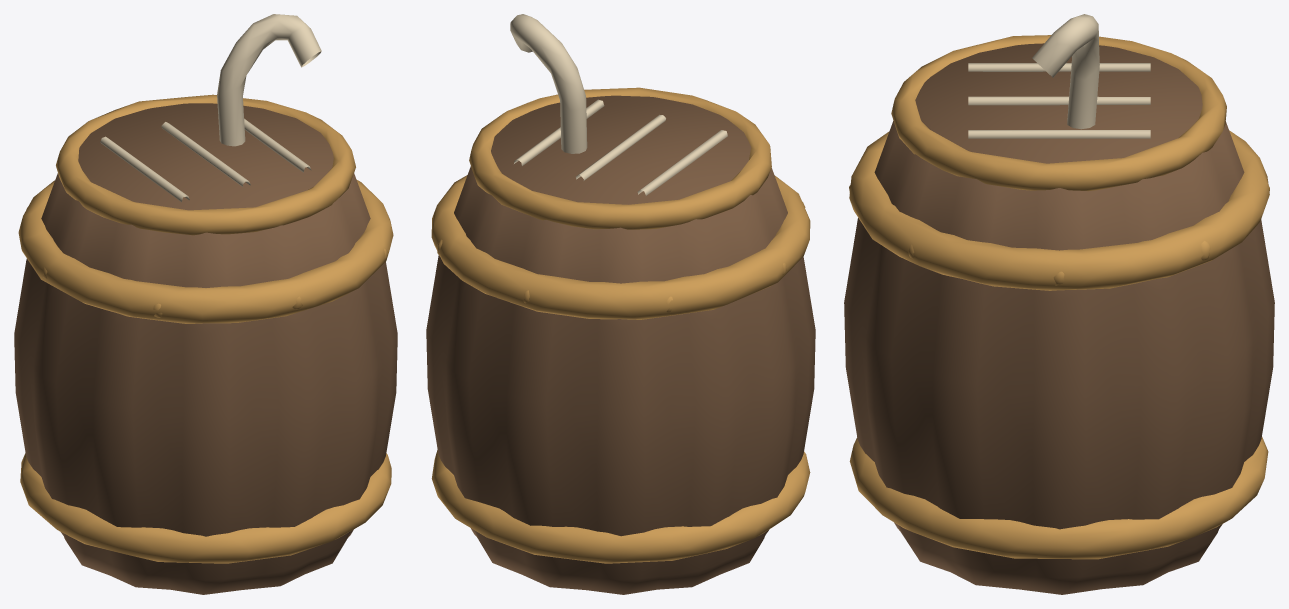
Rendered from powder_barrel.glb.
3 renders of one model, left to right at view 1: azimuth 30°, elevation 25°; view 2: azimuth 150°, elevation 25°; view 3: azimuth 270°, elevation 25°, orthographic. The views are drawn at different scales.
Visible parts, largest first — view 1: Powder_Barrel_Pickup_Mesh; view 2: Powder_Barrel_Pickup_Mesh; view 3: Powder_Barrel_Pickup_Mesh.
Boxes of the visible parts, x1,y1,x2,y2 form: Powder_Barrel_Pickup_Mesh: (14, 14, 397, 594); Powder_Barrel_Pickup_Mesh: (426, 14, 815, 594); Powder_Barrel_Pickup_Mesh: (844, 14, 1274, 594).
Size of the model in its own units: 0.0496 by 0.0704 by 0.0496.
